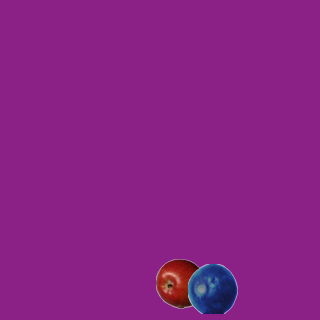Apple Braeburn: (155, 258, 205, 308)
Huckleberry: (187, 263, 237, 313)
